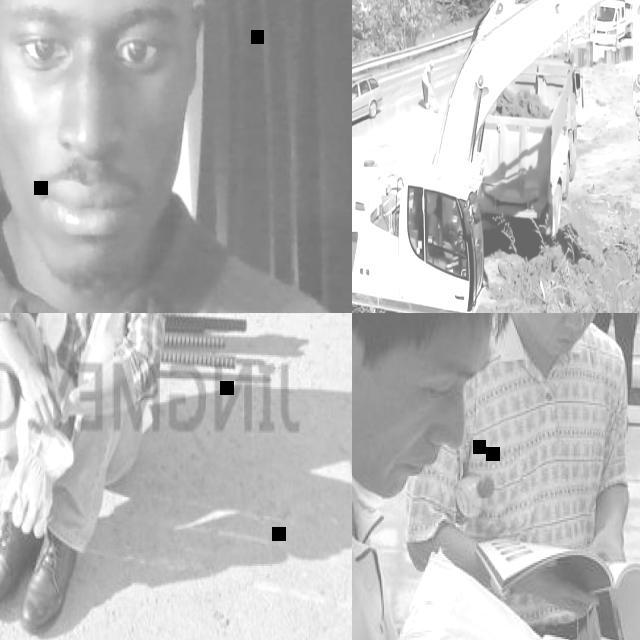helmet: (430, 60, 434, 66)
vest: (33, 313, 151, 434), (422, 64, 430, 87)
